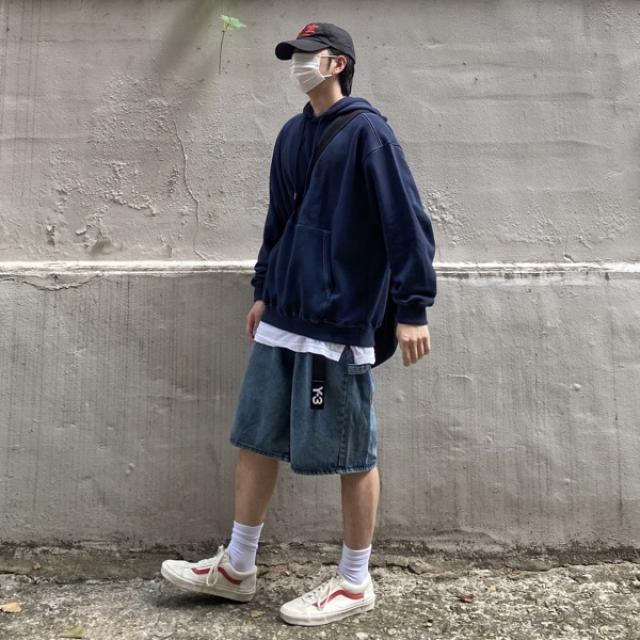mtm: (255, 91, 435, 349)
shortpants: (227, 330, 381, 475)
